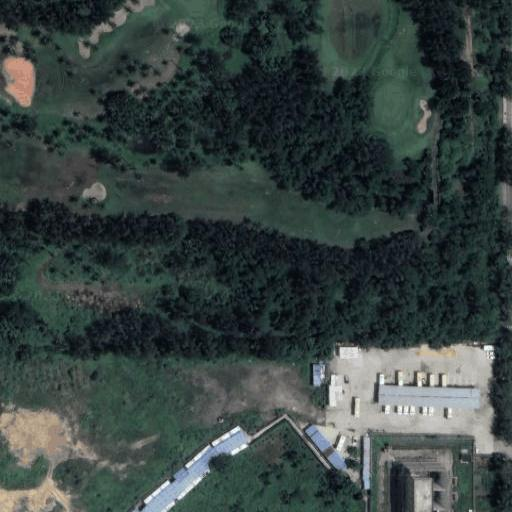building: (132, 442, 226, 512), (378, 384, 478, 408), (398, 459, 439, 512), (306, 425, 346, 472), (210, 425, 252, 463), (364, 437, 369, 488), (338, 347, 357, 360), (313, 365, 321, 388), (331, 386, 337, 408)
